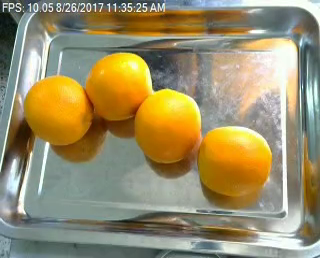Orange: (198, 126, 273, 196), (135, 87, 201, 163), (23, 75, 92, 144), (84, 51, 151, 120)
